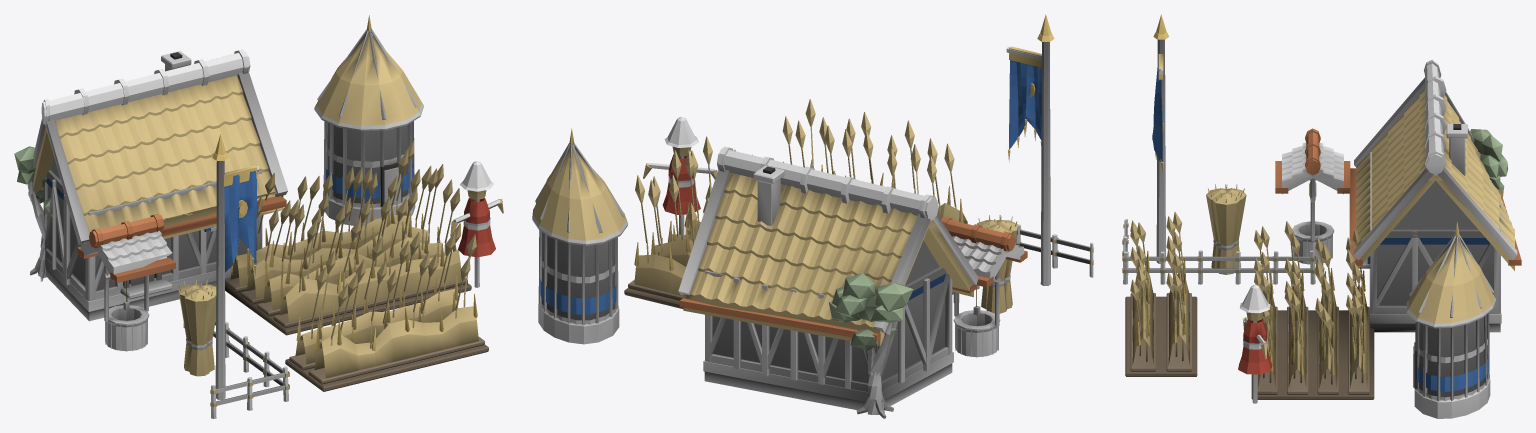
Rendered from farm-l1.glb.
The picture shows the model from 3 angles, left to right: view 1: azimuth 30°, elevation 25°; view 2: azimuth 150°, elevation 25°; view 3: azimuth 270°, elevation 25°; orthographic projection. The views are drawn at different scales.
Visible parts, largest first — view 1: farm-l1; view 2: farm-l1; view 3: farm-l1.
Boxes of the visible parts, <box> form: farm-l1: <box>14,15,503,418</box>; farm-l1: <box>532,14,1093,418</box>; farm-l1: <box>1122,14,1521,418</box>.
Size of the model in its own units: 1.27 by 0.8139 by 1.18.
